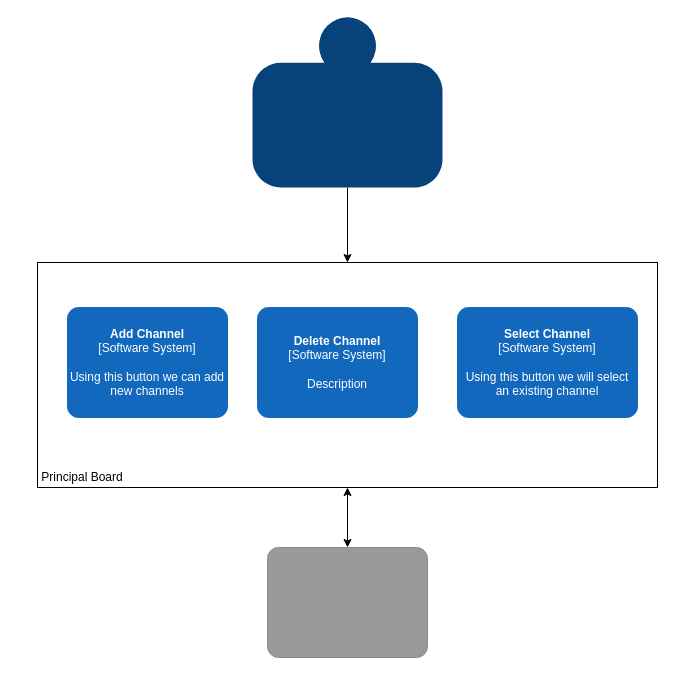
This 675x675 diagram has some shape labels left out. The centre of each missing label's shape, as x and y in pixels:
API Service [Software System] The existing messenger API: (347,602)
Client [Person] The person that will use our app: (347,102)
